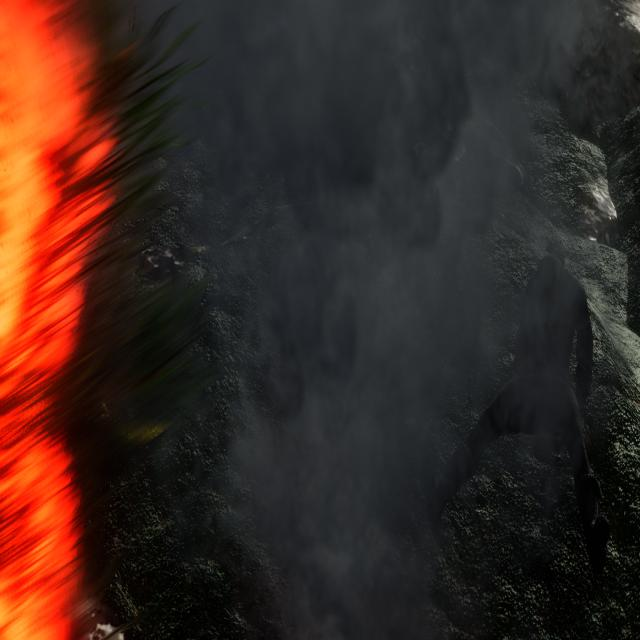Human: (421, 236, 617, 579)
